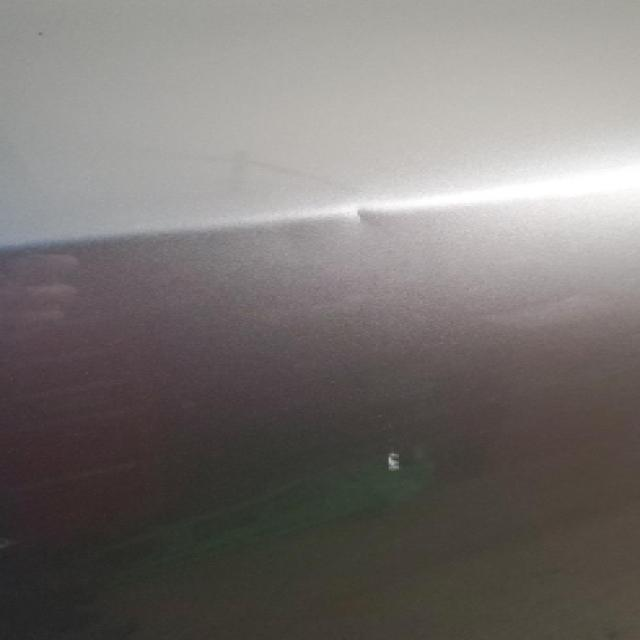dents: (475, 255, 630, 377), (260, 191, 460, 282), (0, 218, 117, 341)
